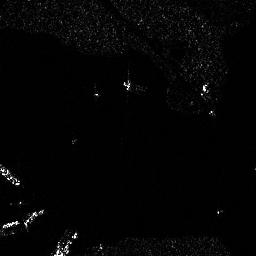ship: (1, 165, 21, 185)
